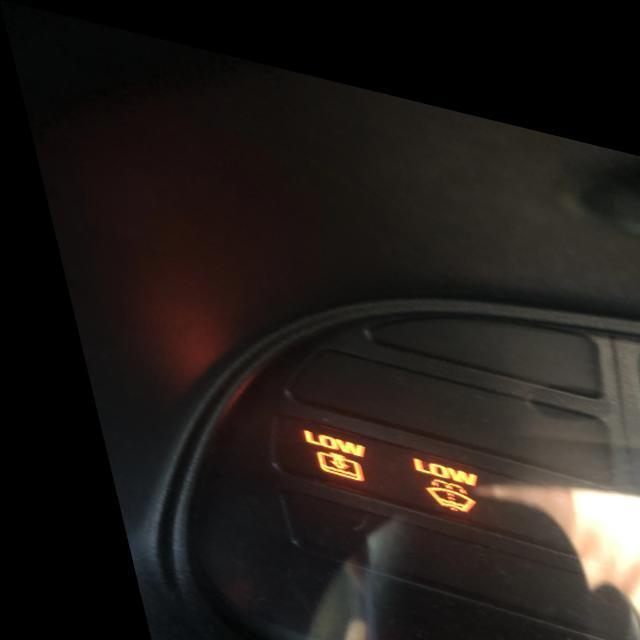Washer Fluid: (424, 478, 475, 514)
